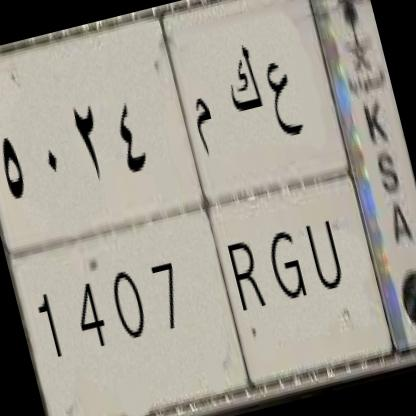english: (3, 159, 404, 416)
